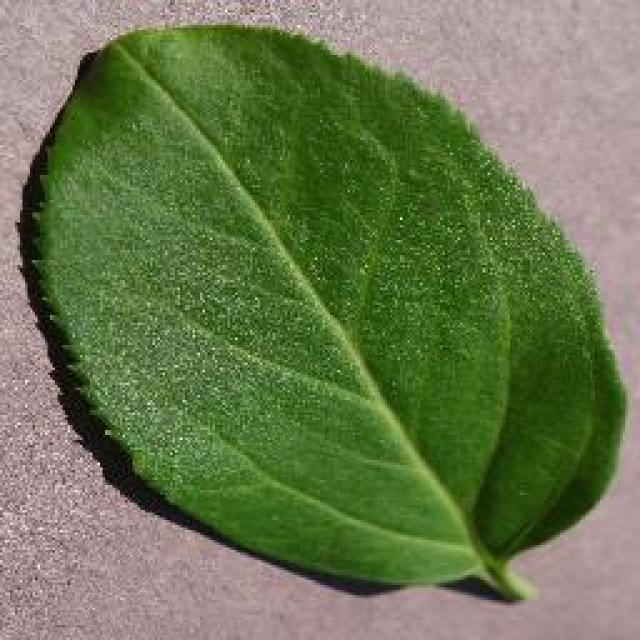Cherry___healthy: (10, 8, 635, 628)
